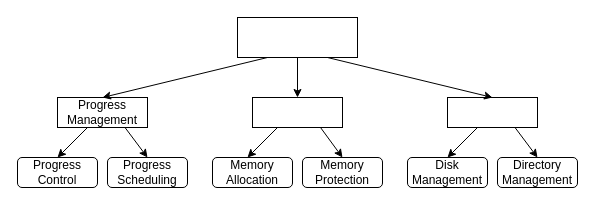
This 595x205 diagram has some shape labels left out. The box of each missing label's shape, as (x1, y1, x2, y2) in pixels:
File Management: (446, 96, 538, 128)
Memory Management: (252, 96, 342, 128)
OS: (236, 16, 358, 58)
